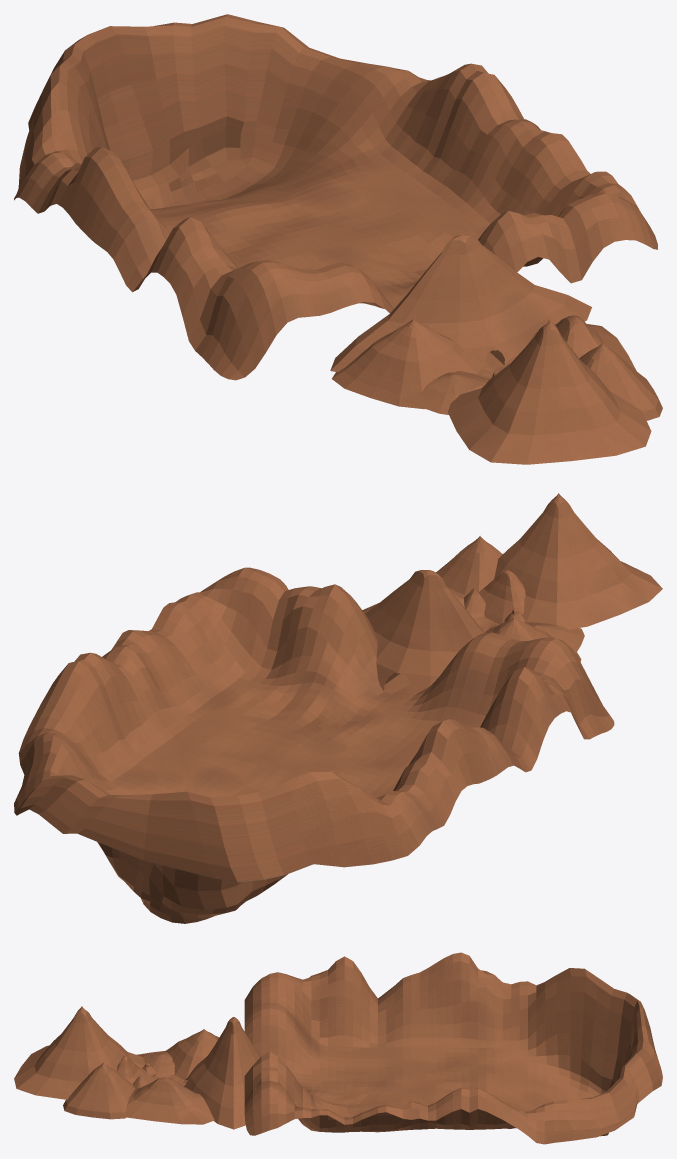
The model's file is Main Level.fbx.
3 views of the same model, one above another, from view 1: azimuth 30°, elevation 25°; view 2: azimuth 150°, elevation 25°; view 3: azimuth 270°, elevation 25° (orthographic). The views are drawn at different scales.
Parts seen in each view (by area): view 1: Plane, Cube.002; view 2: Plane, Cube.002; view 3: Plane, Cube.002.
Boxes of the visible parts, x1,y1,x2,y2 form: Plane: (14,14,657,380); Cube.002: (330,234,662,464); Plane: (14,567,614,923); Cube.002: (362,493,662,693); Plane: (244,952,662,1144); Cube.002: (14,1006,260,1129).
Size of the model in its own units: 60251 by 24065 by 117263.
